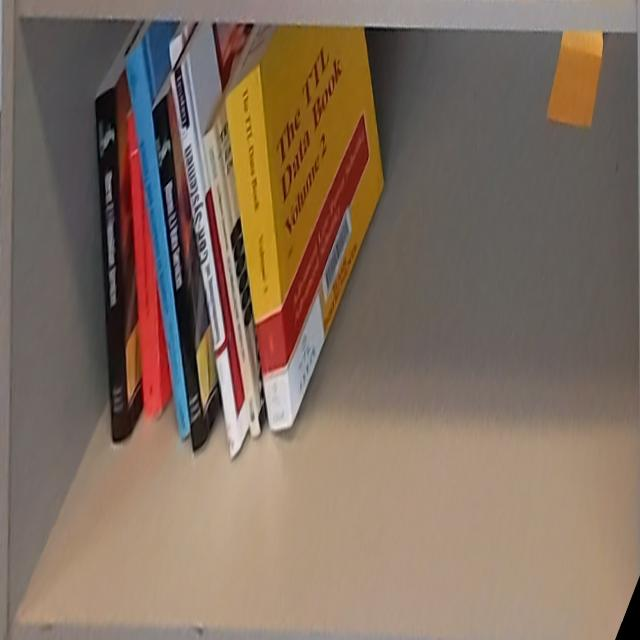Book Spine: (170, 61, 239, 457), (124, 42, 189, 441), (225, 64, 292, 431), (152, 93, 206, 451), (202, 124, 260, 437), (95, 85, 128, 443)
